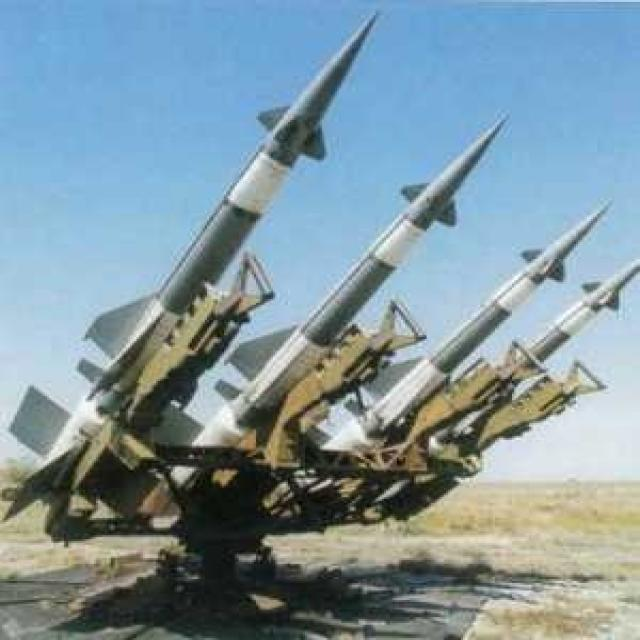missile: (0, 5, 384, 525), (176, 105, 515, 479), (333, 193, 617, 488), (499, 252, 640, 391)
